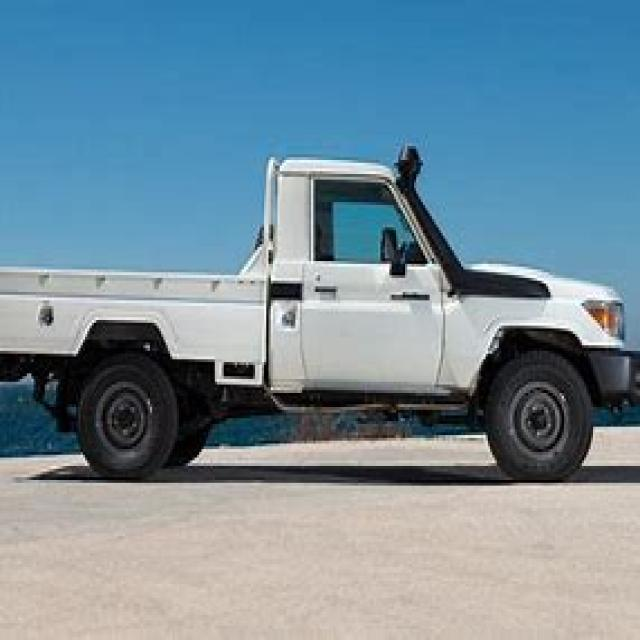light_vehicle: (7, 120, 638, 502)
